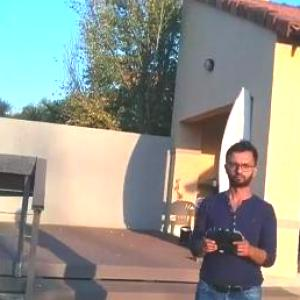follow: (182, 130, 282, 299)
